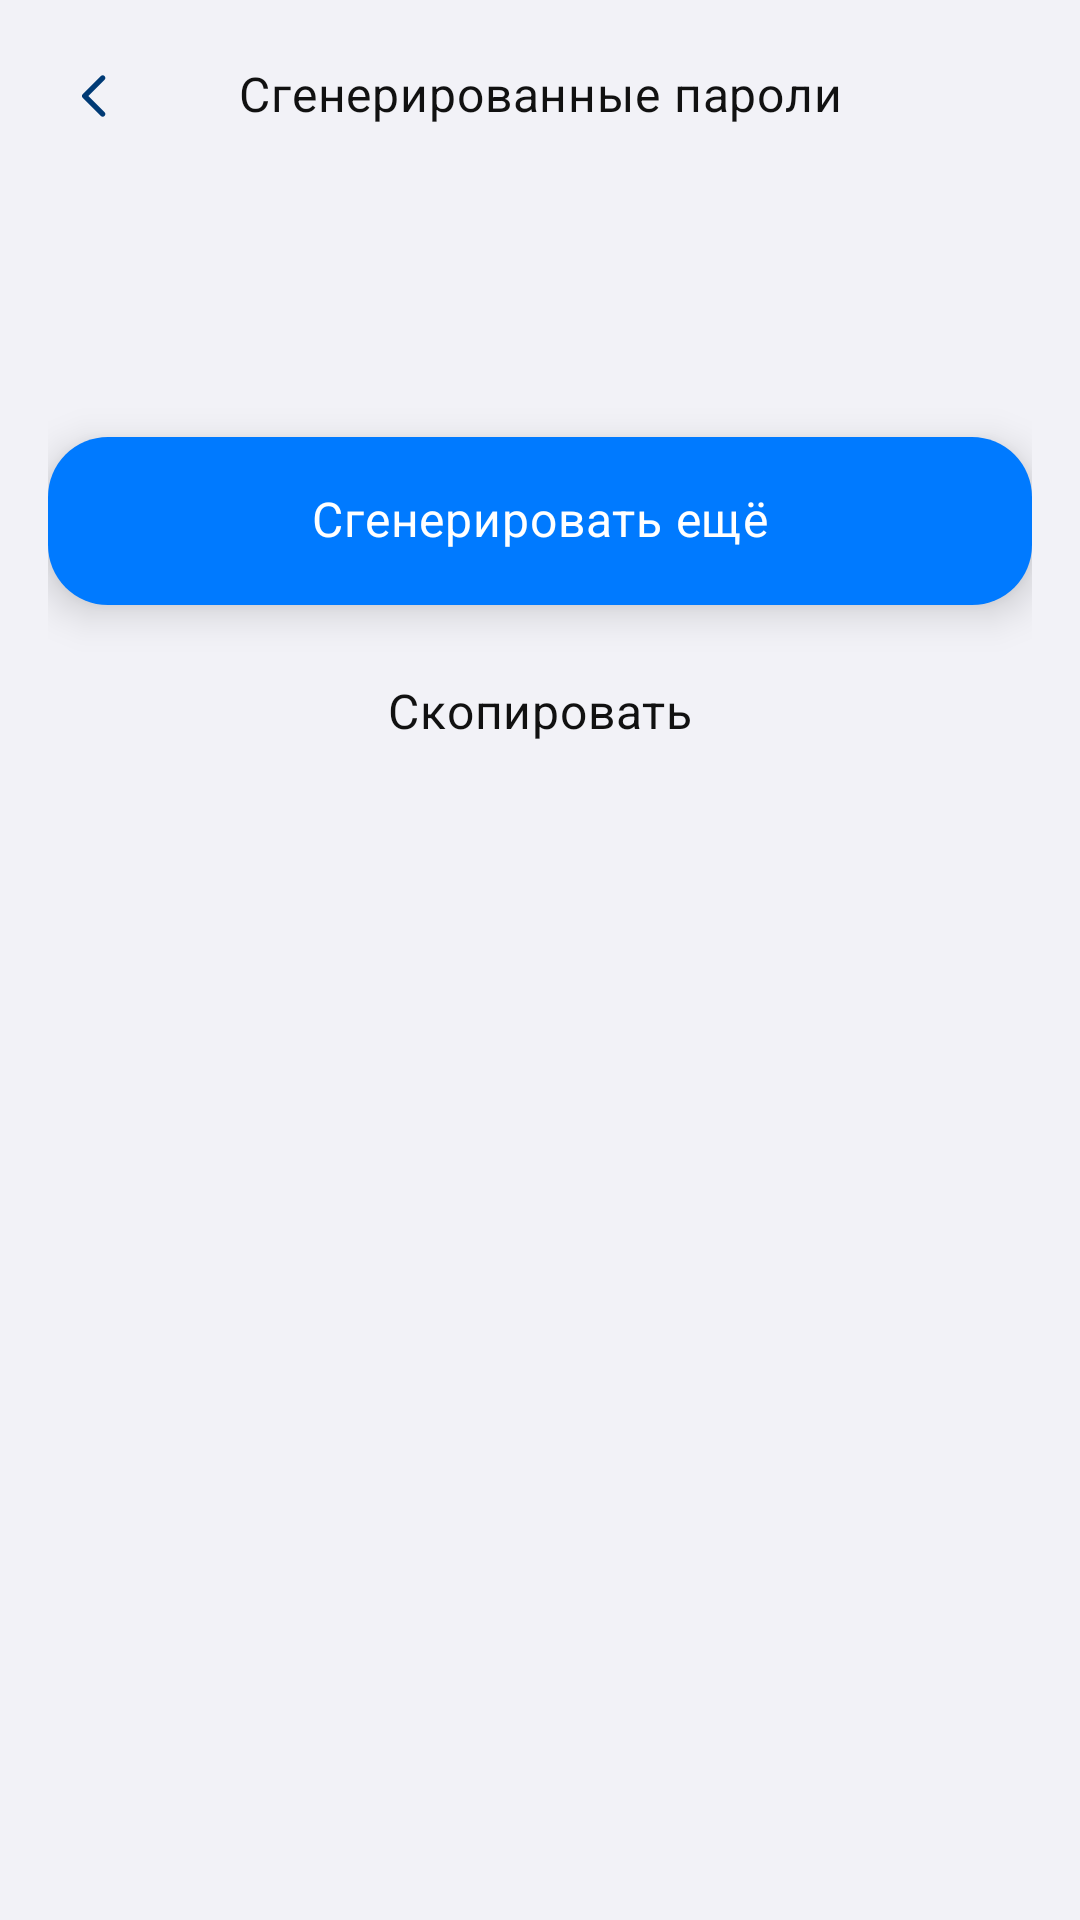

Locate icon controls on the screen. Image size 1080×1920, boxes as (x1, y1, x2, y2).
back: (82, 75, 106, 117)
